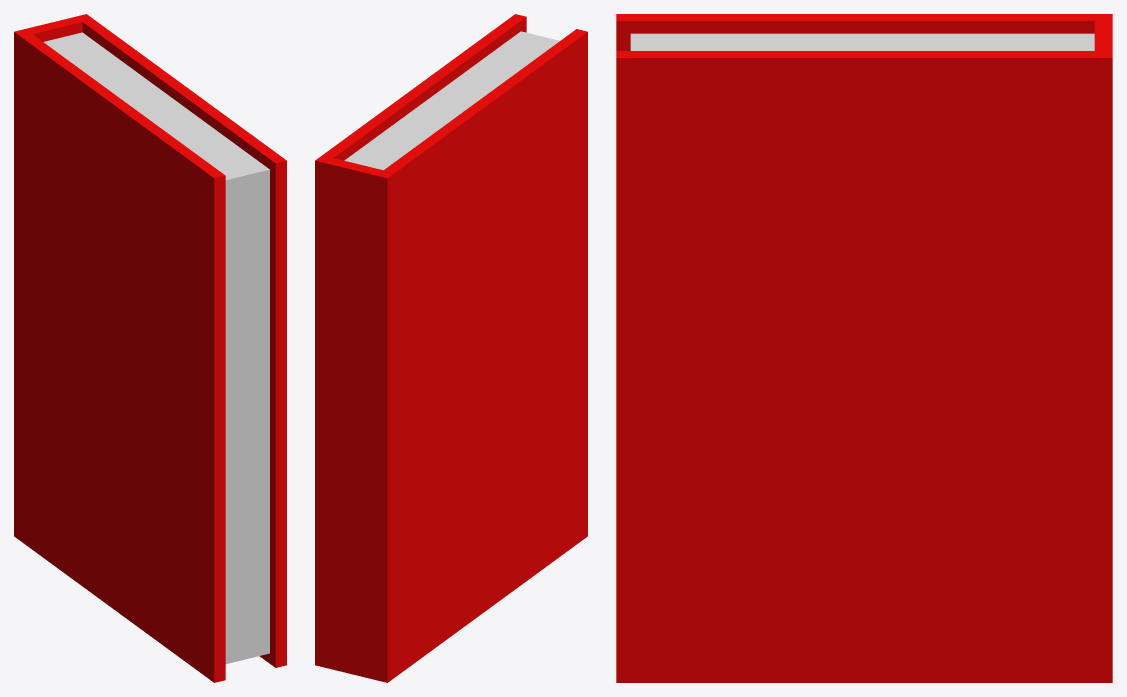
The model's file is libro2.FBX.
3 renders of one model, left to right at view 1: azimuth 30°, elevation 25°; view 2: azimuth 150°, elevation 25°; view 3: azimuth 270°, elevation 25°, orthographic. The views are drawn at different scales.
Visible parts, largest first — view 1: Object001; view 2: Object001; view 3: Object001.
Part boxes in pixels (box(x1,y1,x2,y2)): Object001: box(14, 14, 286, 682); Object001: box(315, 14, 587, 682); Object001: box(616, 14, 1112, 682).
Bounding box in the file's own units: 0.9103 × 6.05 × 4.35.
